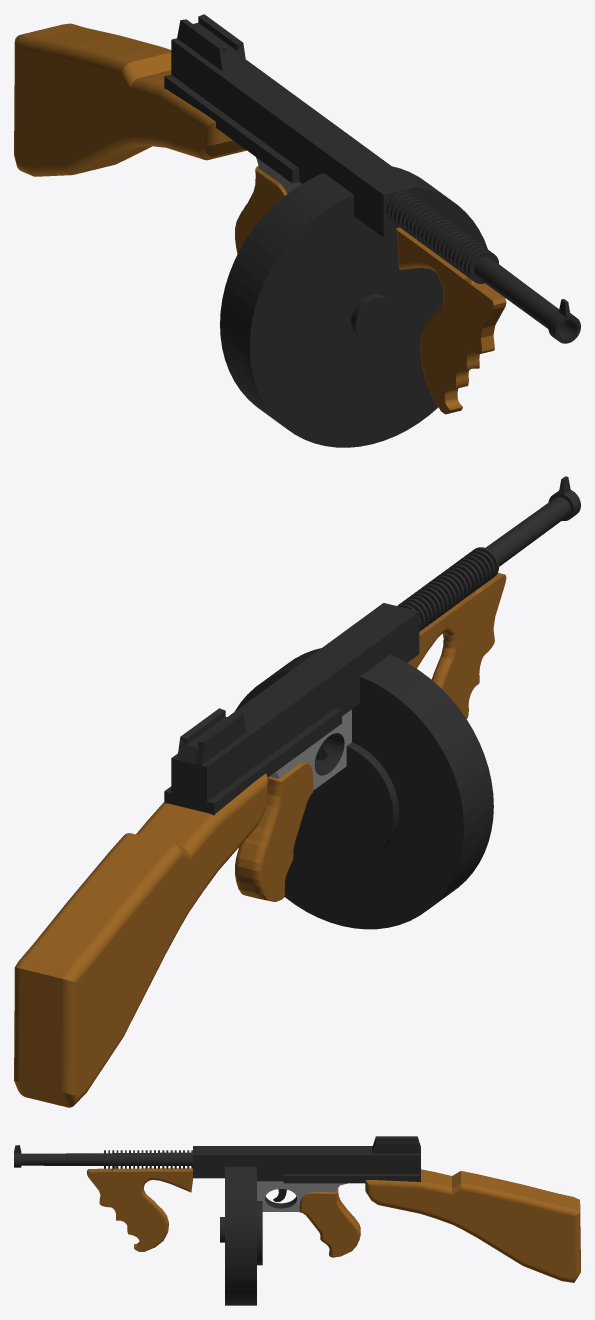
The model's file is gun1970.fbx.
3 views of the same model, one above another, from view 1: azimuth 30°, elevation 25°; view 2: azimuth 150°, elevation 25°; view 3: azimuth 270°, elevation 25° (orthographic). The views are drawn at different scales.
Parts seen in each view (by area): view 1: Cube.002; view 2: Cube.002; view 3: Cube.002.
Boxes of the visible parts, x1,y1,x2,y2 form: Cube.002: (14, 14, 580, 447); Cube.002: (14, 476, 580, 1107); Cube.002: (14, 1136, 580, 1305).
Bounding box in the file's own units: 302 × 350 × 1131.
